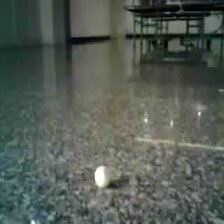w: (94, 165, 111, 186)
